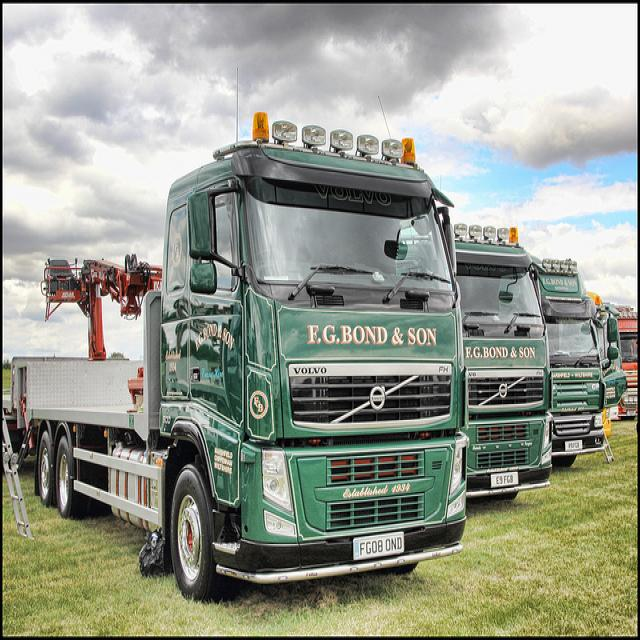Vehicle: (12, 118, 466, 607), (454, 222, 553, 503), (532, 260, 626, 468), (590, 292, 639, 420)
